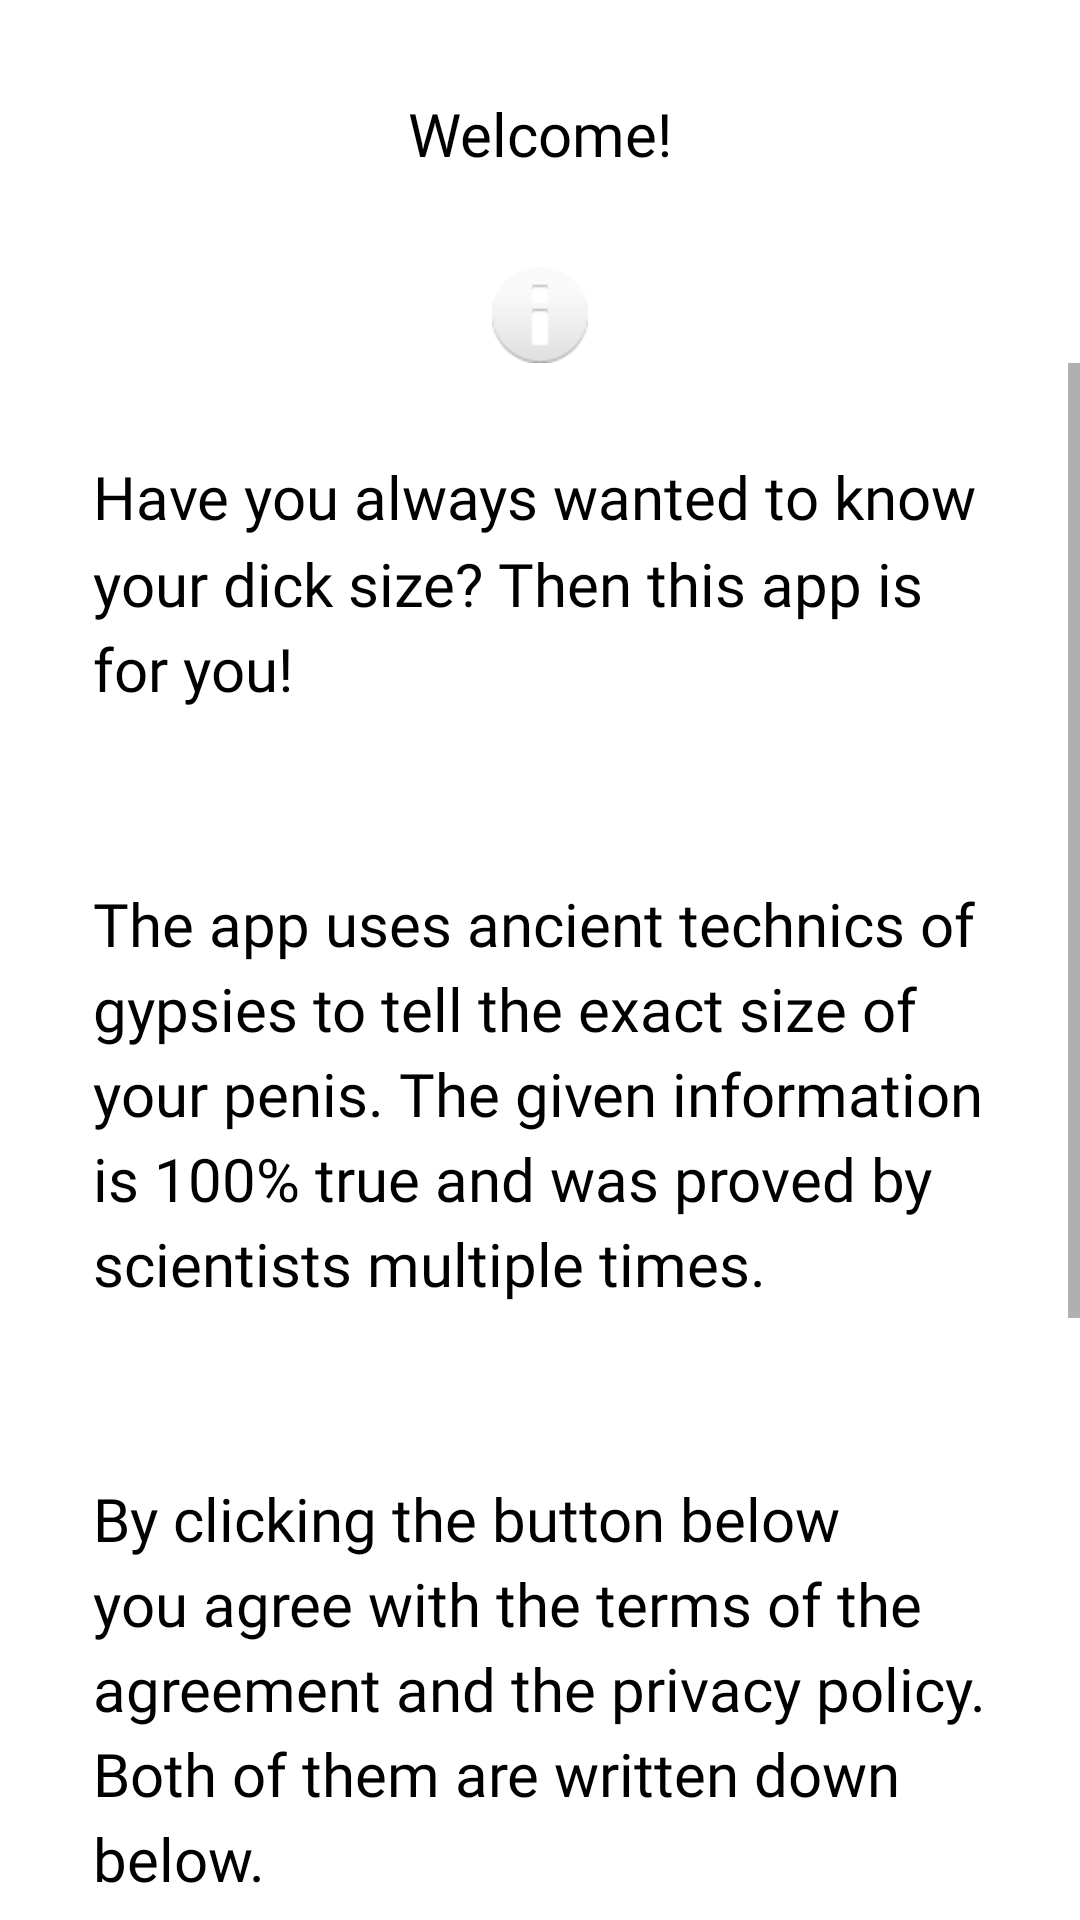

Locate icon controls on the screen. Image size 1080*1920, boxes as (x1, y1, x2, y2).
Info Image: (492, 285, 588, 363)
